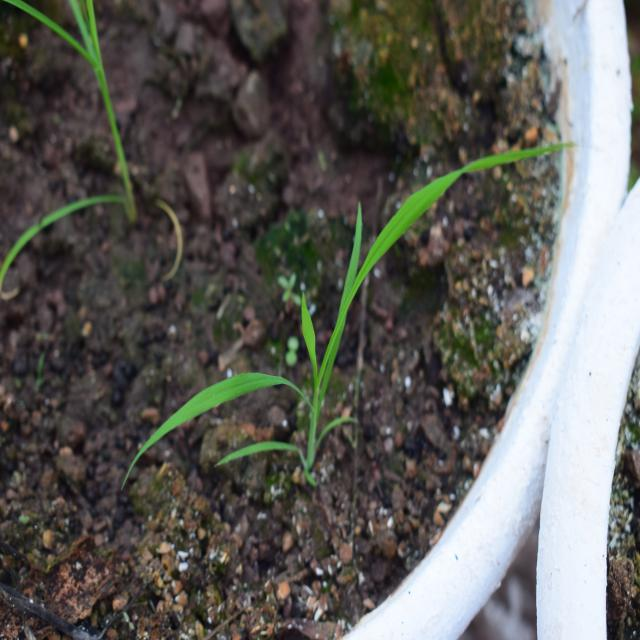barnyard_grass: (140, 153, 558, 495)
